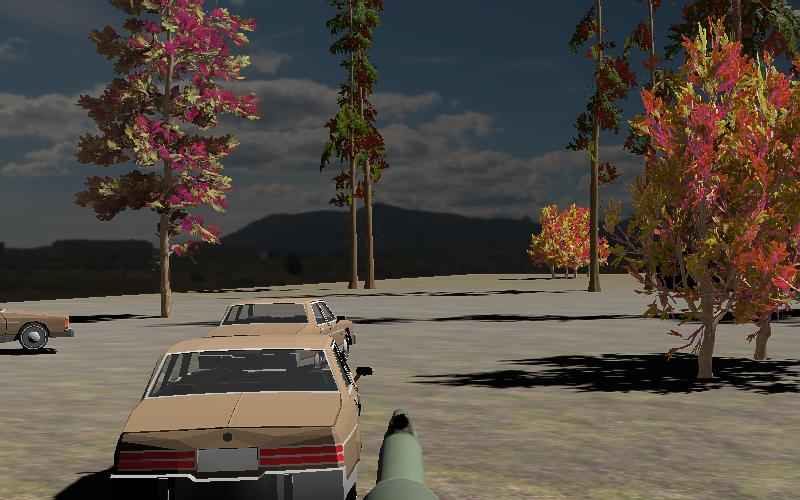car: (109, 342, 365, 498), (203, 297, 359, 372), (0, 294, 76, 355)
